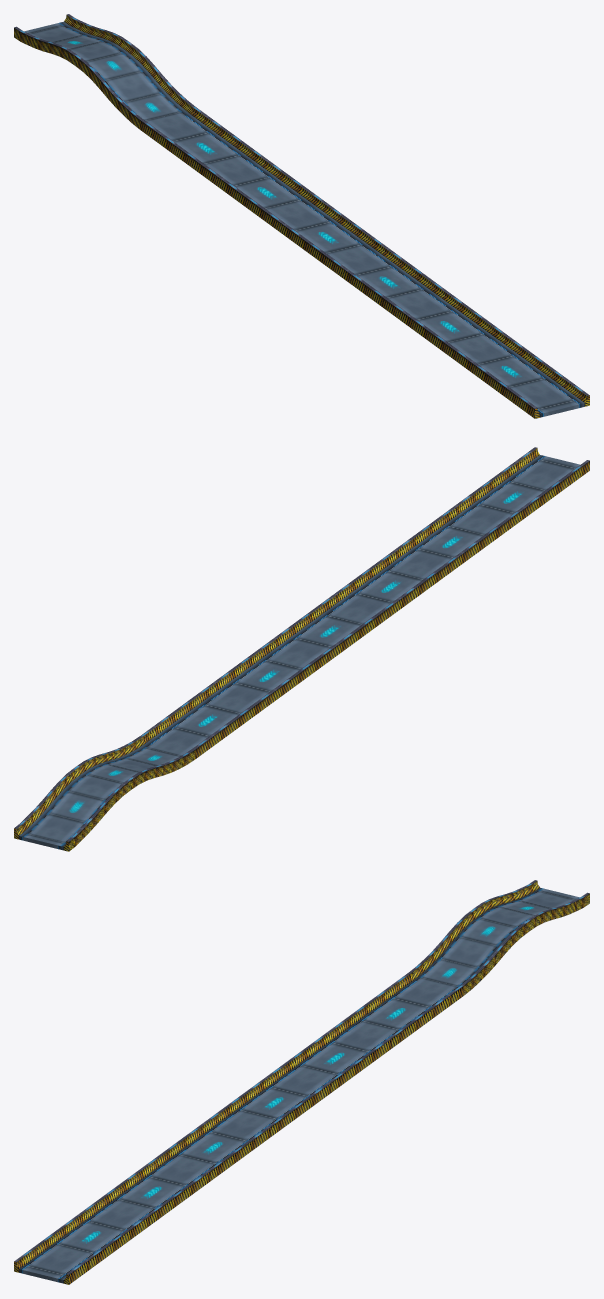
3 views of the same model, one above another, from view 1: azimuth 30°, elevation 25°; view 2: azimuth 150°, elevation 25°; view 3: azimuth 330°, elevation 25° (orthographic).
Visible parts, largest first — view 1: Object001; view 2: Object001; view 3: Object001.
Part boxes in pixels (left/top/right/bottom): Object001: left=14, top=14, right=589, bottom=418; Object001: left=14, top=447, right=589, bottom=851; Object001: left=14, top=880, right=589, bottom=1284.
Size of the model in its own units: 18.06 by 8.3 by 295.
